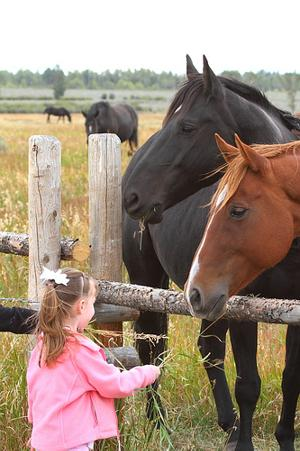person: (26, 266, 165, 451)
